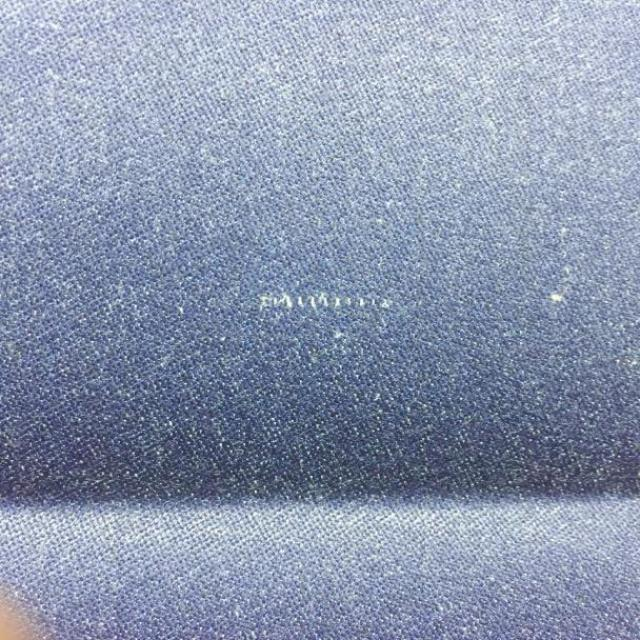Knot: (259, 293, 394, 311)
